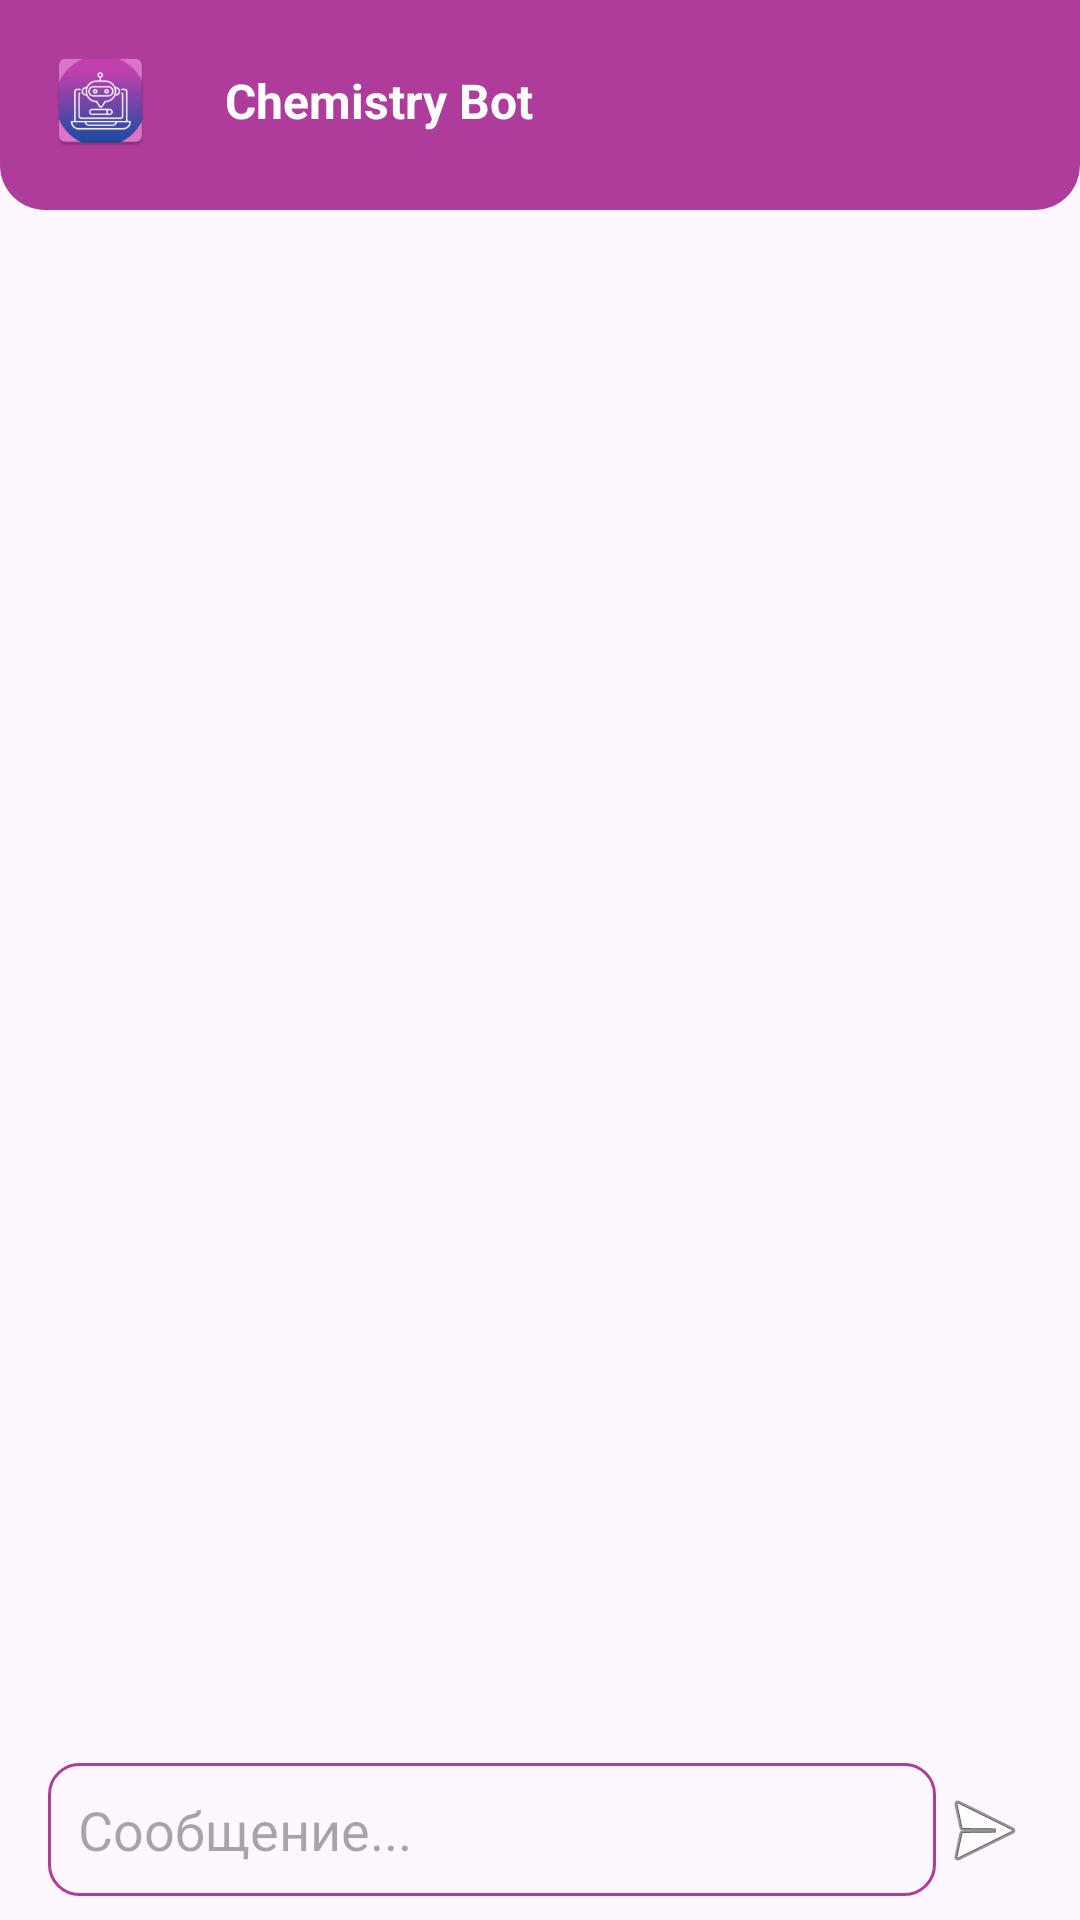

Where to tap for icons on this 1080×1920 app screen, as point (x, y):
send: point (985, 1830)
